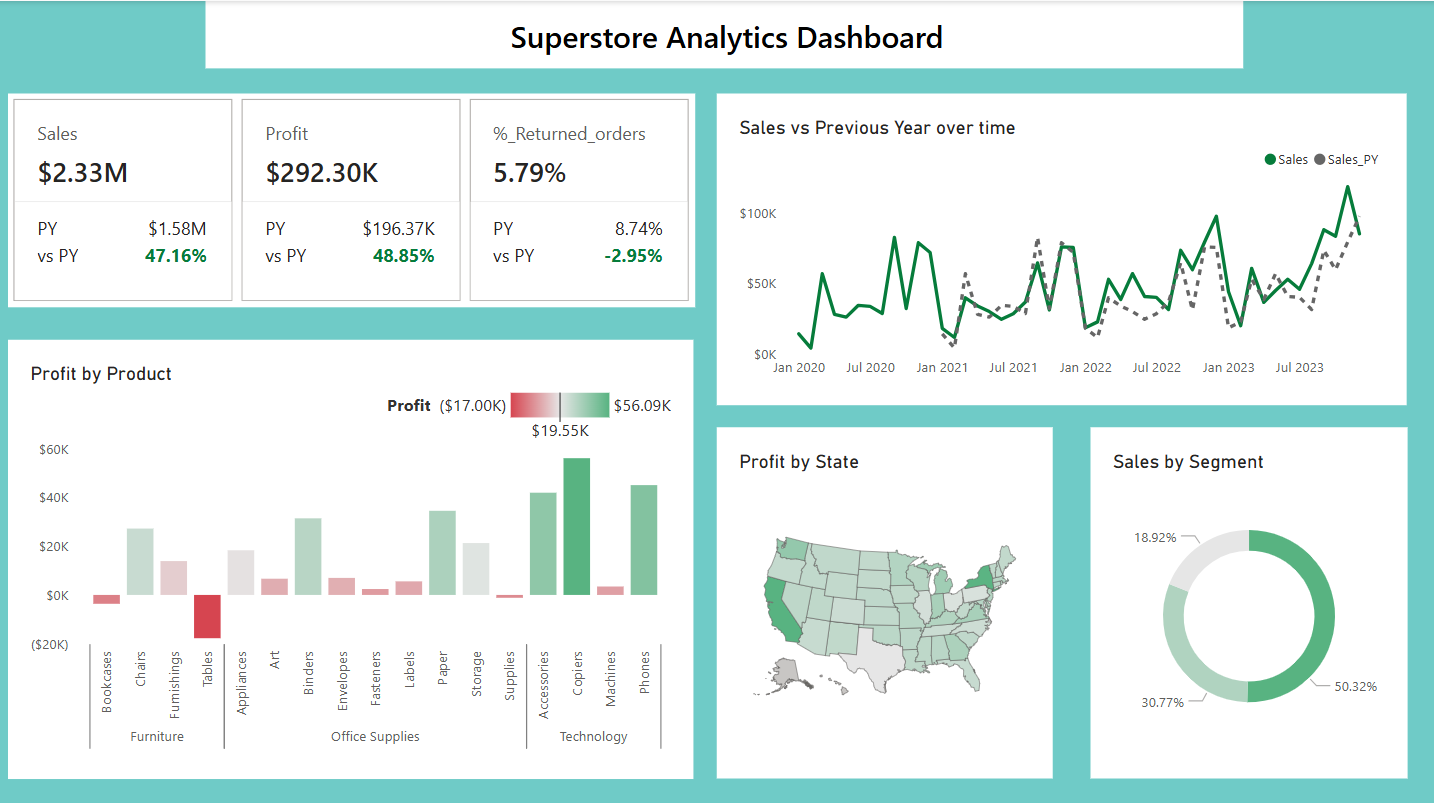

This screenshot's page, from the dashboard's own definition file:
{"tool":"powerbi","page":{"name":"Page 1","canvas":[1280,720],"ordinal":0},"visuals":[{"type":"cardVisual","fields":{"Data":["M_Table.Sales","M_Table.Profit","M_Table.%_returned_orders"]},"box":[8.4,82,611.7,190.6],"z":0},{"type":"shape","box":[184.6,0,929,60.3],"z":1000},{"type":"lineChart","title":"Sales vs Previous Year over time","fields":{"Y":["M_Table.Sales","M_Table.Sales_PY"],"Category":["Date Table.start of month.Variation.Date Hierarchy.Year","Date Table.start of month.Variation.Date Hierarchy.Quarter","Date Table.start of month.Variation.Date Hierarchy.Month","Date Table.start of month.Variation.Date Hierarchy.Day"]},"box":[640.6,82,614.1,277.5],"z":2000},{"type":"columnChart","title":"Profit by Product","fields":{"Category":["Orders.Category","Orders.Sub-Category"],"Y":["M_Table.Profit"]},"box":[8.4,301.6,610.5,390.9],"z":3000},{"type":"shapeMap","title":"Profit by State","fields":{"Category":["Orders.State/Province"],"Value":["Sum(Orders.Profit)"]},"box":[640.6,380,299.2,312.5],"z":4000},{"type":"donutChart","title":"Sales by Segment","fields":{"Y":["Sum(Orders.Sales)"],"Category":["Orders.Segment"]},"box":[972.4,380,282.3,312.5],"z":5000}]}

Visuals, with their boxes in screenshot pixels (x1, y1, x2, y2), scaled from the page's 1280x720 canvas onto the 1434x803 screenshot:
cardVisual - M_Table.Sales x M_Table.Profit: Rect(9, 91, 695, 304)
shape: Rect(207, 0, 1248, 67)
"Sales vs Previous Year over time" lineChart: Rect(718, 91, 1406, 401)
"Profit by Product" columnChart: Rect(9, 336, 693, 772)
"Profit by State" shapeMap: Rect(718, 424, 1053, 772)
"Sales by Segment" donutChart: Rect(1089, 424, 1406, 772)
